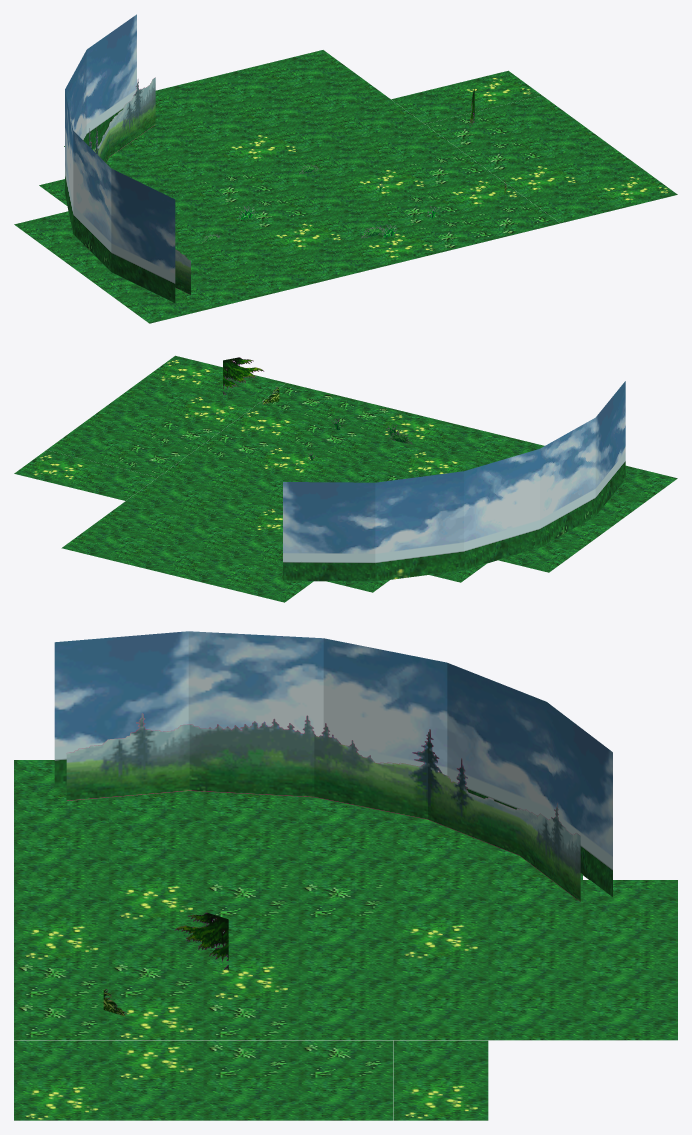
3 views of the same model, one above another, from view 1: azimuth 30°, elevation 25°; view 2: azimuth 150°, elevation 25°; view 3: azimuth 270°, elevation 25° (orthographic). The views are drawn at different scales.
Parts seen in each view (by area): view 1: b01; view 2: b01; view 3: b01.
Part boxes in pixels (left/top/right/bottom): b01: left=14, top=14, right=677, bottom=323; b01: left=14, top=355, right=677, bottom=602; b01: left=14, top=631, right=677, bottom=1120.
Bounding box in the file's own units: 324 × 63.37 × 252.
